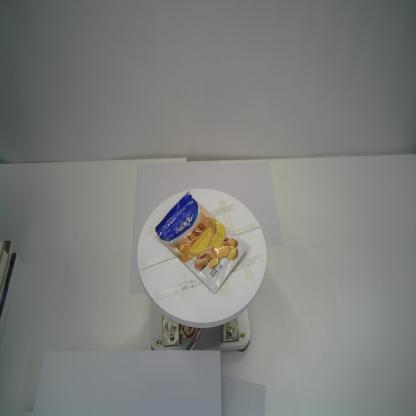Seasoner: (155, 191, 250, 295)
